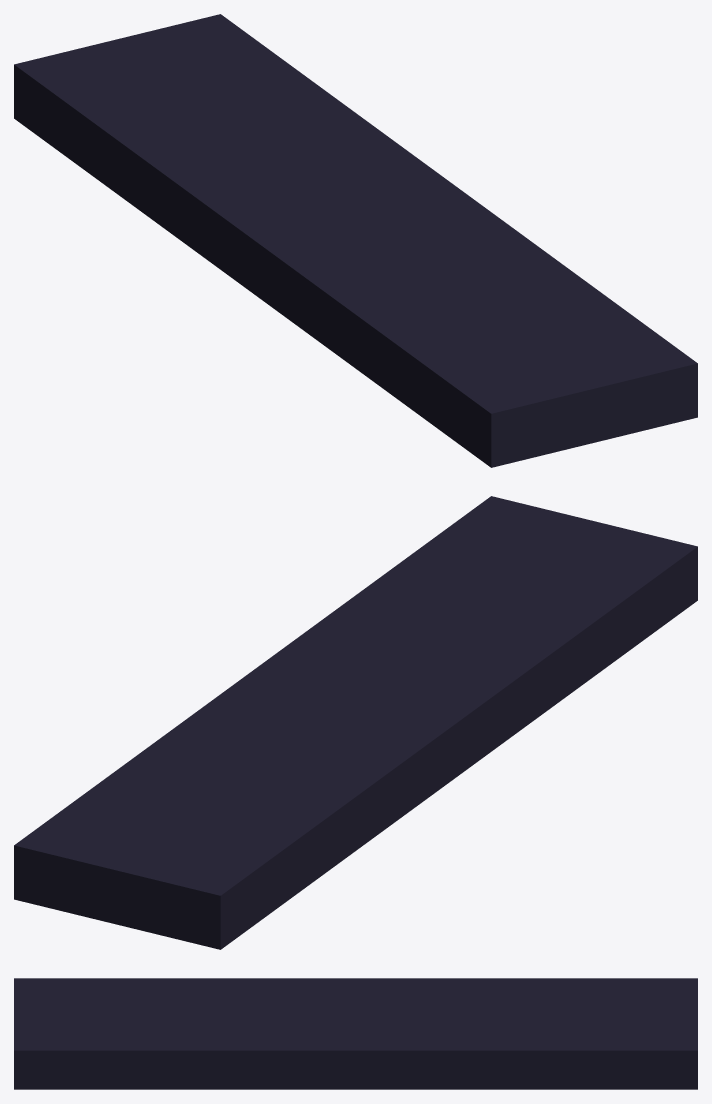
The model's file is rail 180.gltf.
The picture shows the model from 3 angles, top to bottom: view 1: azimuth 30°, elevation 25°; view 2: azimuth 150°, elevation 25°; view 3: azimuth 270°, elevation 25°; orthographic projection. The views are drawn at different scales.
Visible parts, largest first — view 1: rail 180; view 2: rail 180; view 3: rail 180.
Boxes of the visible parts, left/top/right/bottom form: rail 180: left=14, top=14, right=697, bottom=467; rail 180: left=14, top=496, right=697, bottom=949; rail 180: left=14, top=978, right=697, bottom=1089.
Size of the model in its own units: 4 by 1 by 16.
1 material, 1 textured.
